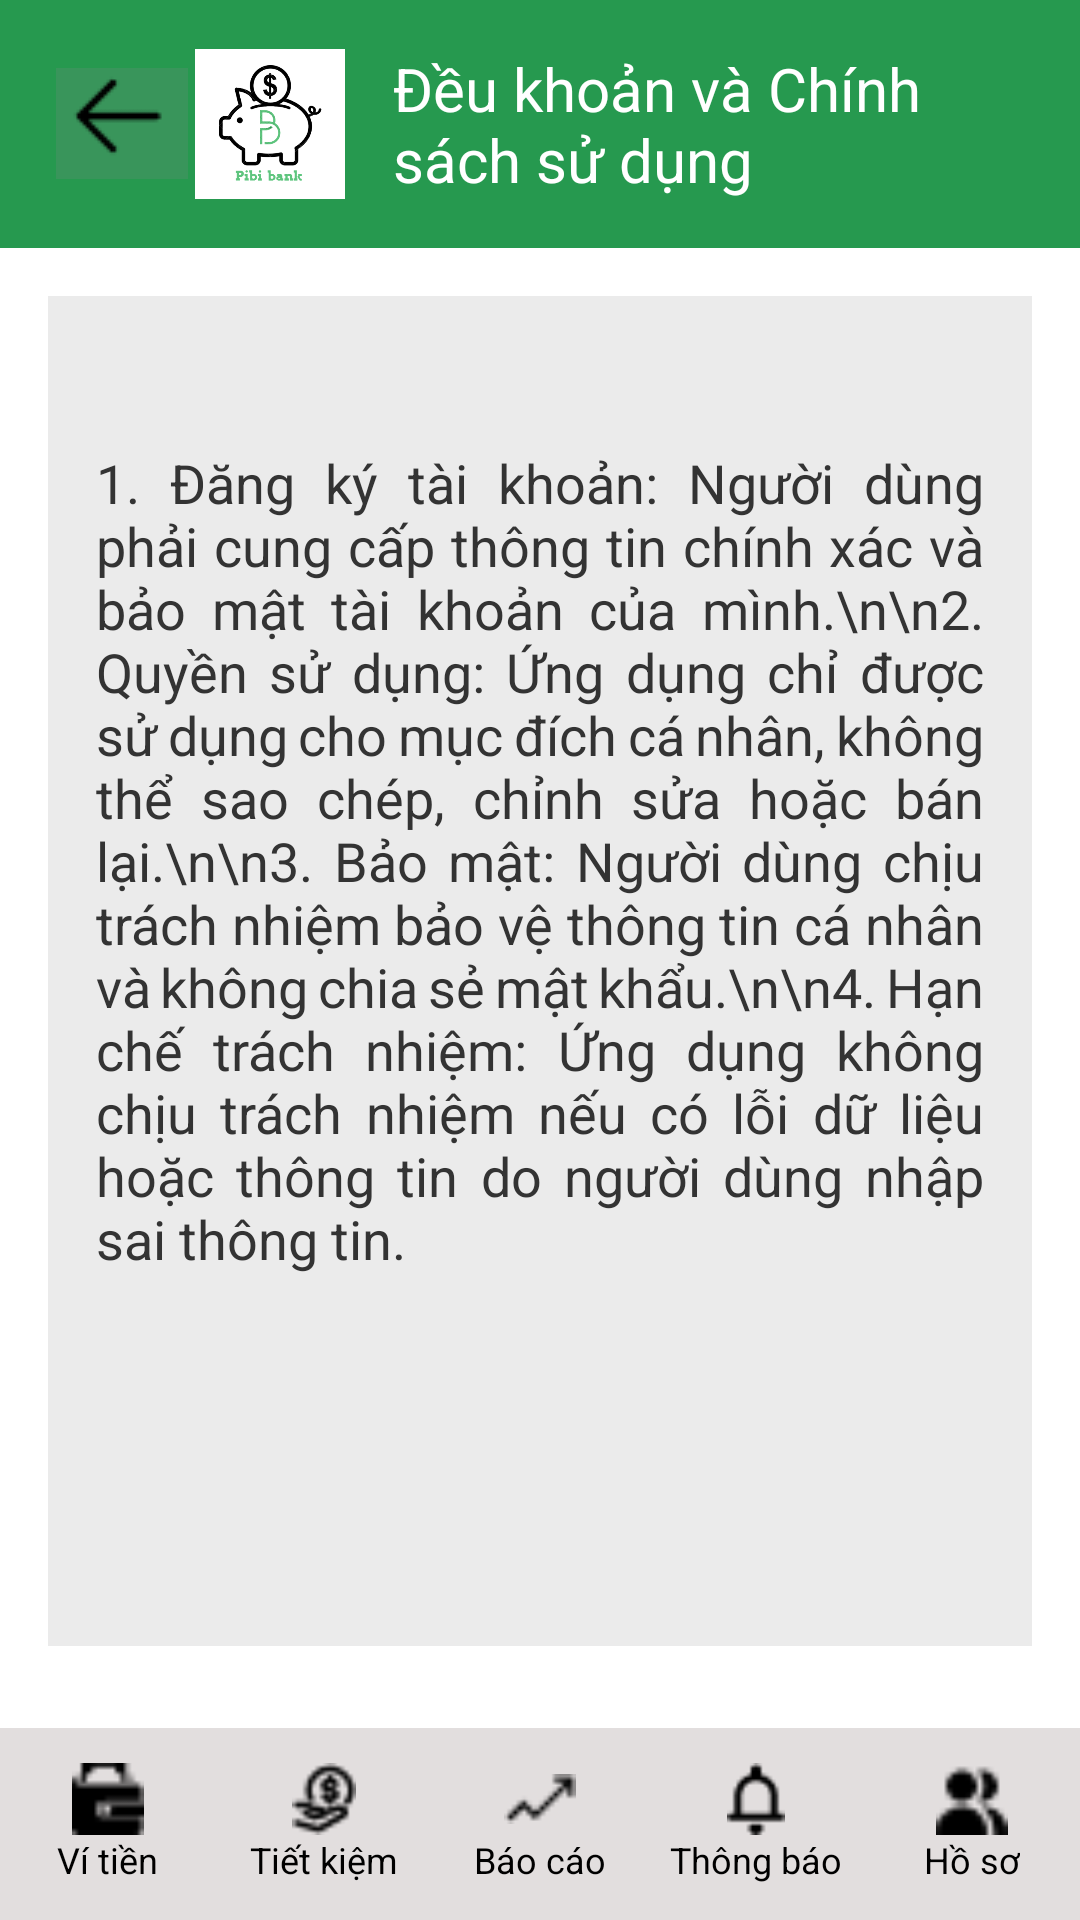

Point at icon controls on the screen. Image size 1080px×1920px, points as point (x, y).
muiten: point (122, 123)
